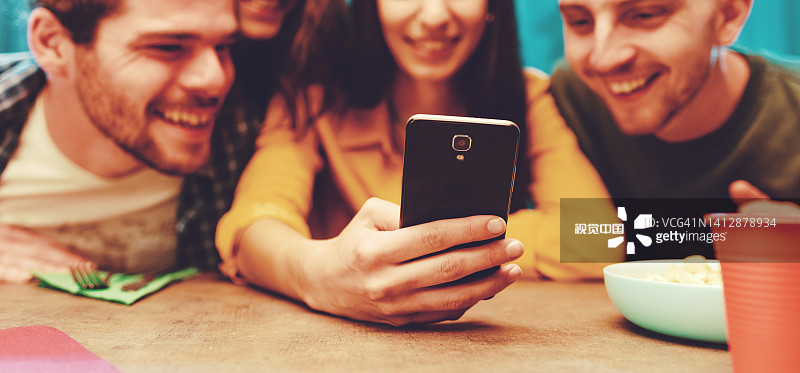reading: (302, 98, 554, 338)
